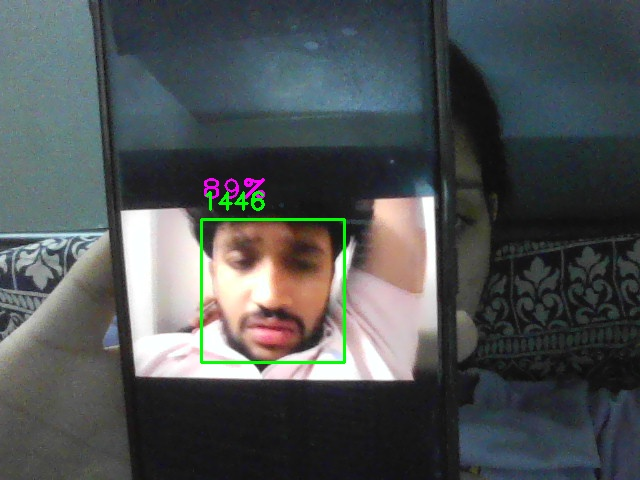fake: (201, 219, 345, 363)
